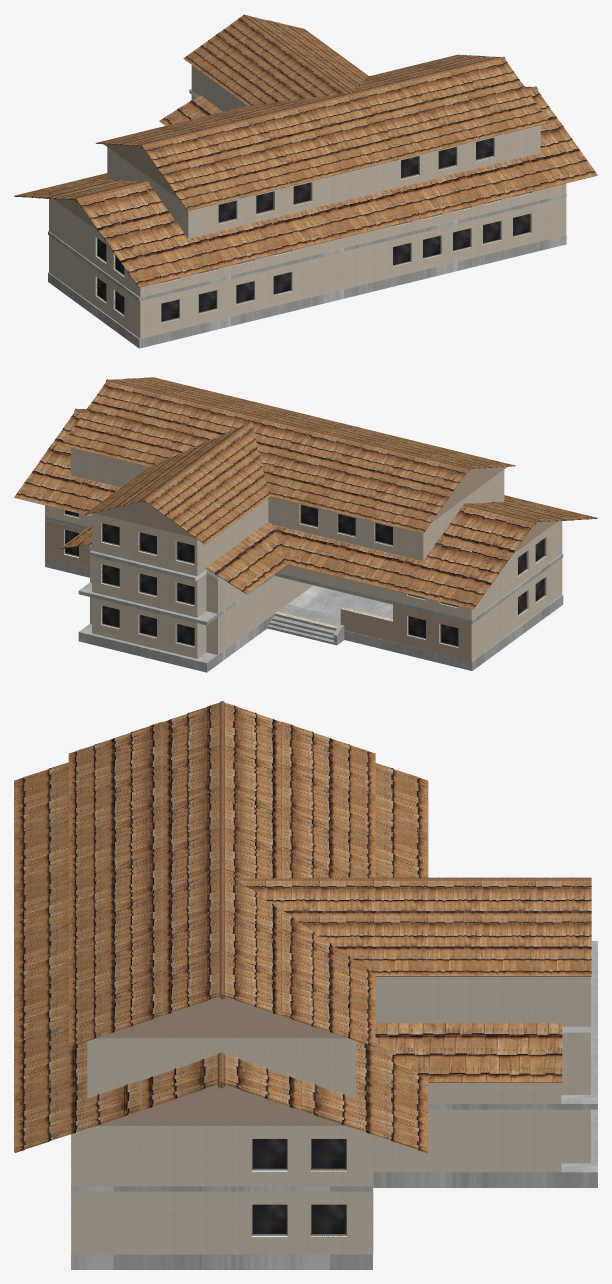
The model's file is gta_vice_city_appartment-v1.glb.
3 views of the same model, one above another, from view 1: azimuth 30°, elevation 25°; view 2: azimuth 150°, elevation 25°; view 3: azimuth 270°, elevation 25° (orthographic). The views are drawn at different scales.
Parts seen in each view (by area): view 1: Plane.033_0; view 2: Plane.033_0; view 3: Plane.033_0.
Boxes of the visible parts, <box> form: Plane.033_0: <box>14,14,597,348</box>; Plane.033_0: <box>14,377,597,672</box>; Plane.033_0: <box>14,701,597,1269</box>.
Bounding box in the file's own units: 0.4727 × 0.1553 × 0.3135.
Materials: 6 (5 with a texture image).
